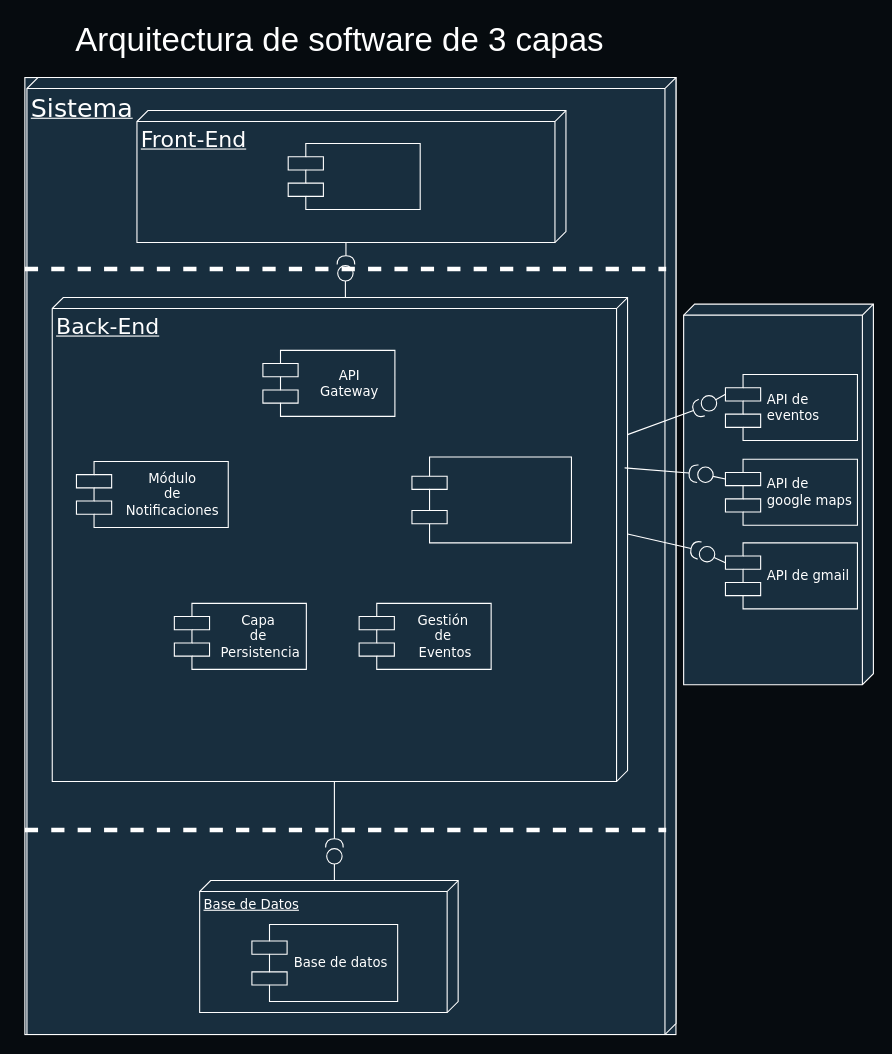
Image size: 892x1054. Some labels were removed from this diagram. The box of each missing label's shape, as (x1, y1, x2, y2) in pixels:
Aplicación Web: (287, 142, 420, 210)
Módulo de Usuarios y Perfiles: (411, 456, 571, 543)
Servicios de terceros: (683, 303, 873, 685)
